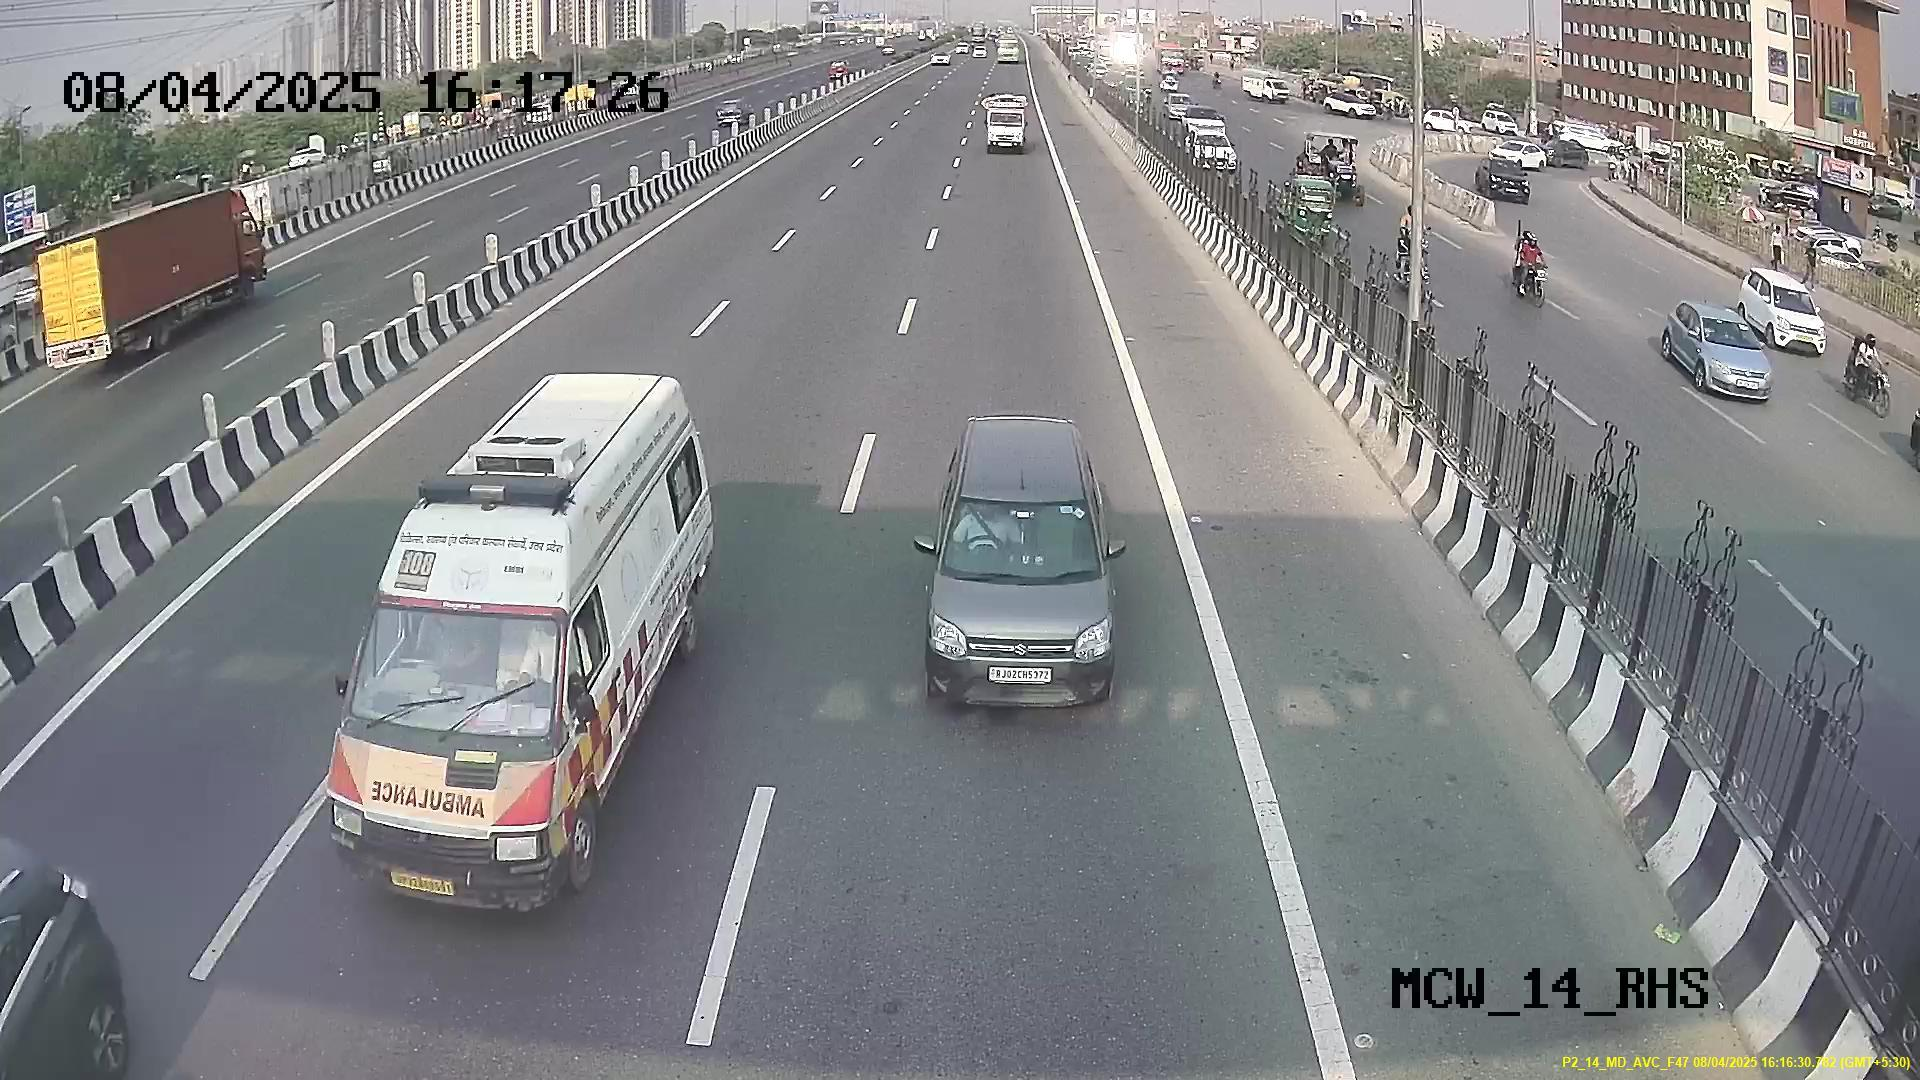car: (315, 545, 613, 915), (920, 481, 1122, 717)
